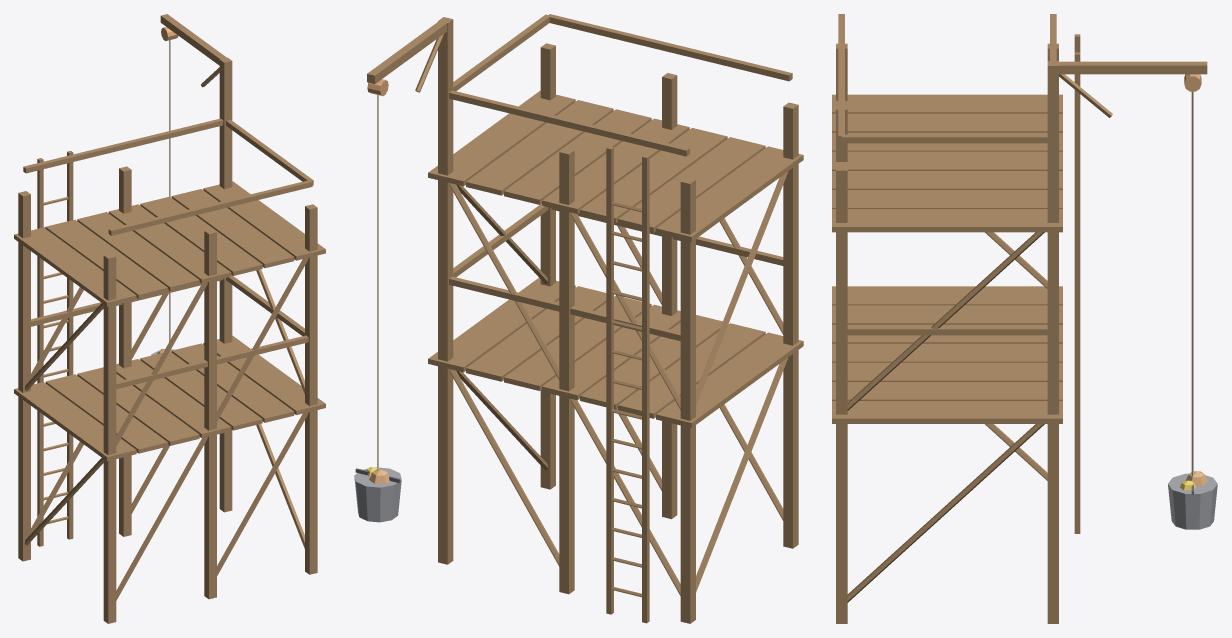
File: lobby_scaffold.glb
The picture shows the model from 3 angles, left to right: view 1: azimuth 30°, elevation 25°; view 2: azimuth 150°, elevation 25°; view 3: azimuth 270°, elevation 25°; orthographic projection. The views are drawn at different scales.
Parts seen in each view (by area): view 1: LobbyScaffold; view 2: LobbyScaffold; view 3: LobbyScaffold.
Boxes of the visible parts, <box> form: LobbyScaffold: <box>14,14,325,623</box>; LobbyScaffold: <box>354,14,803,623</box>; LobbyScaffold: <box>832,14,1217,623</box>.
Bounding box in the file's own units: 3.37 × 6.4 × 4.01.
